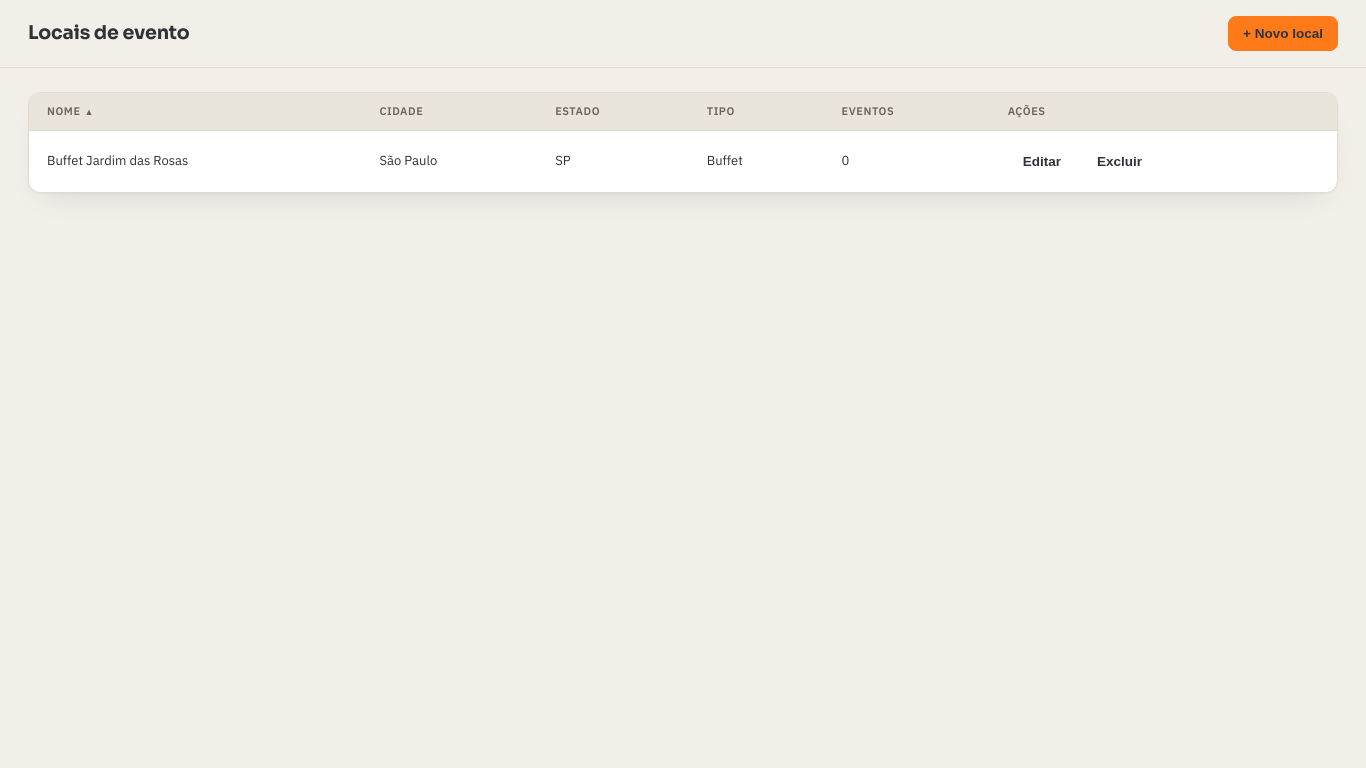
Test case: EventVenuesPage › mantém o modal de exclusão aberto com erro inline quando a exclusão falha
The width and height of the screenshot is (1366, 768).
Expected: the text "Buffet Jardim das Rosas" is shown, [29,130,362,192]
Click the button "Excluir" at (1119, 161), box [1082,144,1157,178]
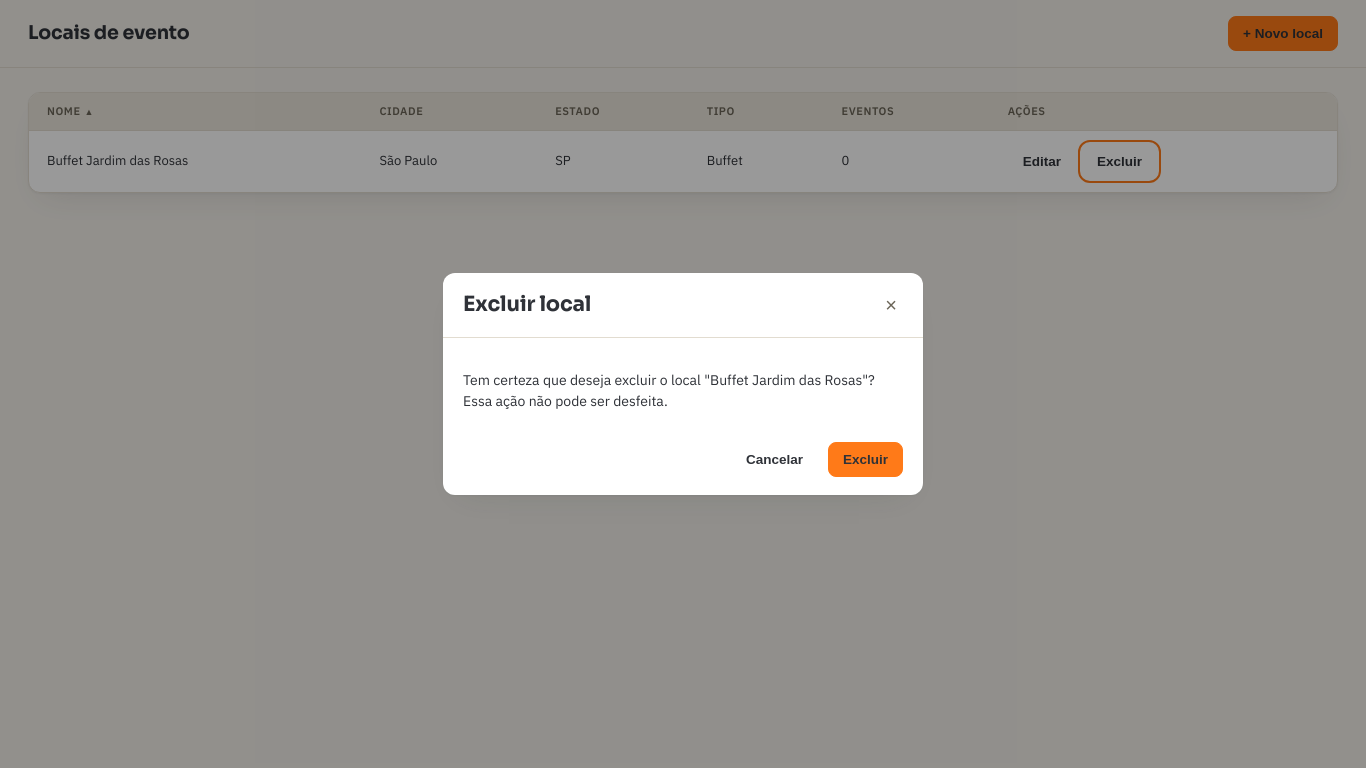
Click the button "Excluir" at (866, 459), box [828,442,903,477]
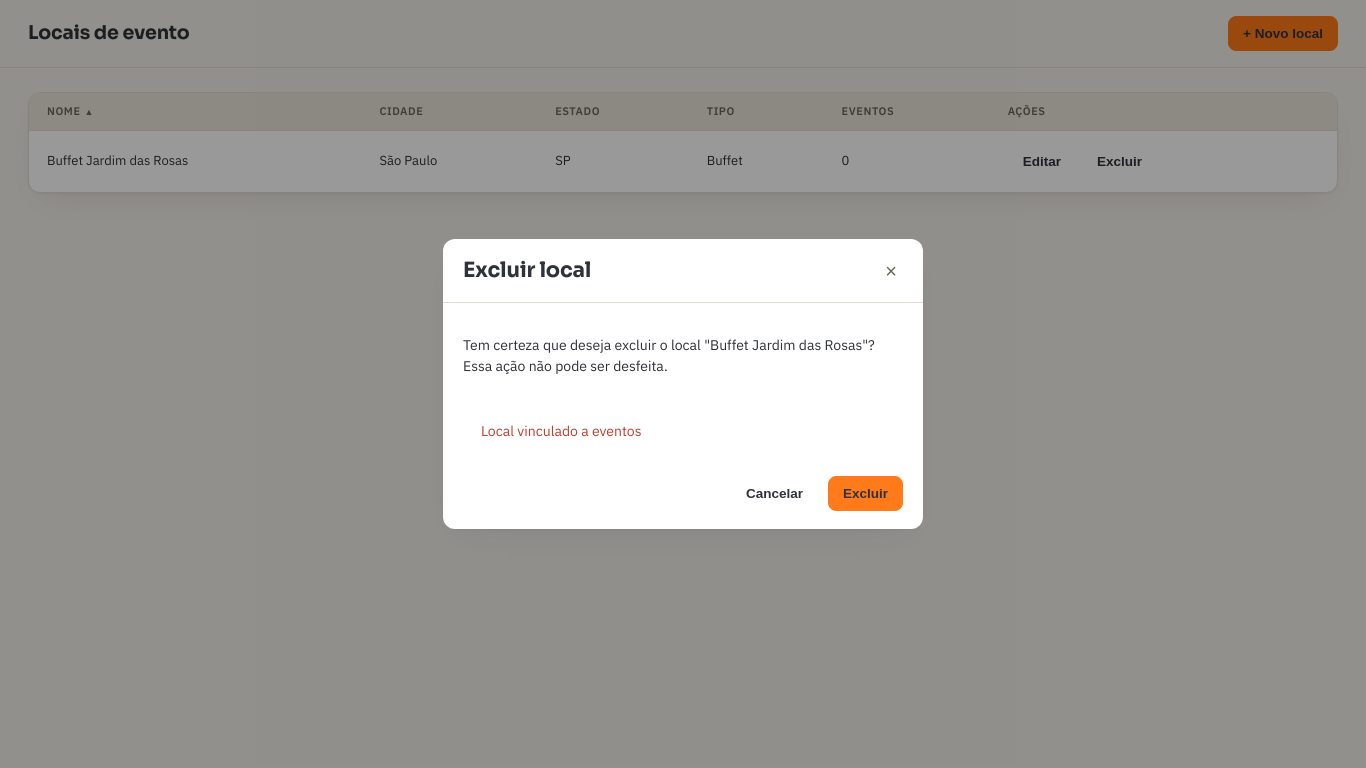
Expected: the text "Buffet Jardim das Rosas" is shown, [29,130,362,192]
Result: the text "Local vinculado a eventos" is shown at [481,422,642,440]
